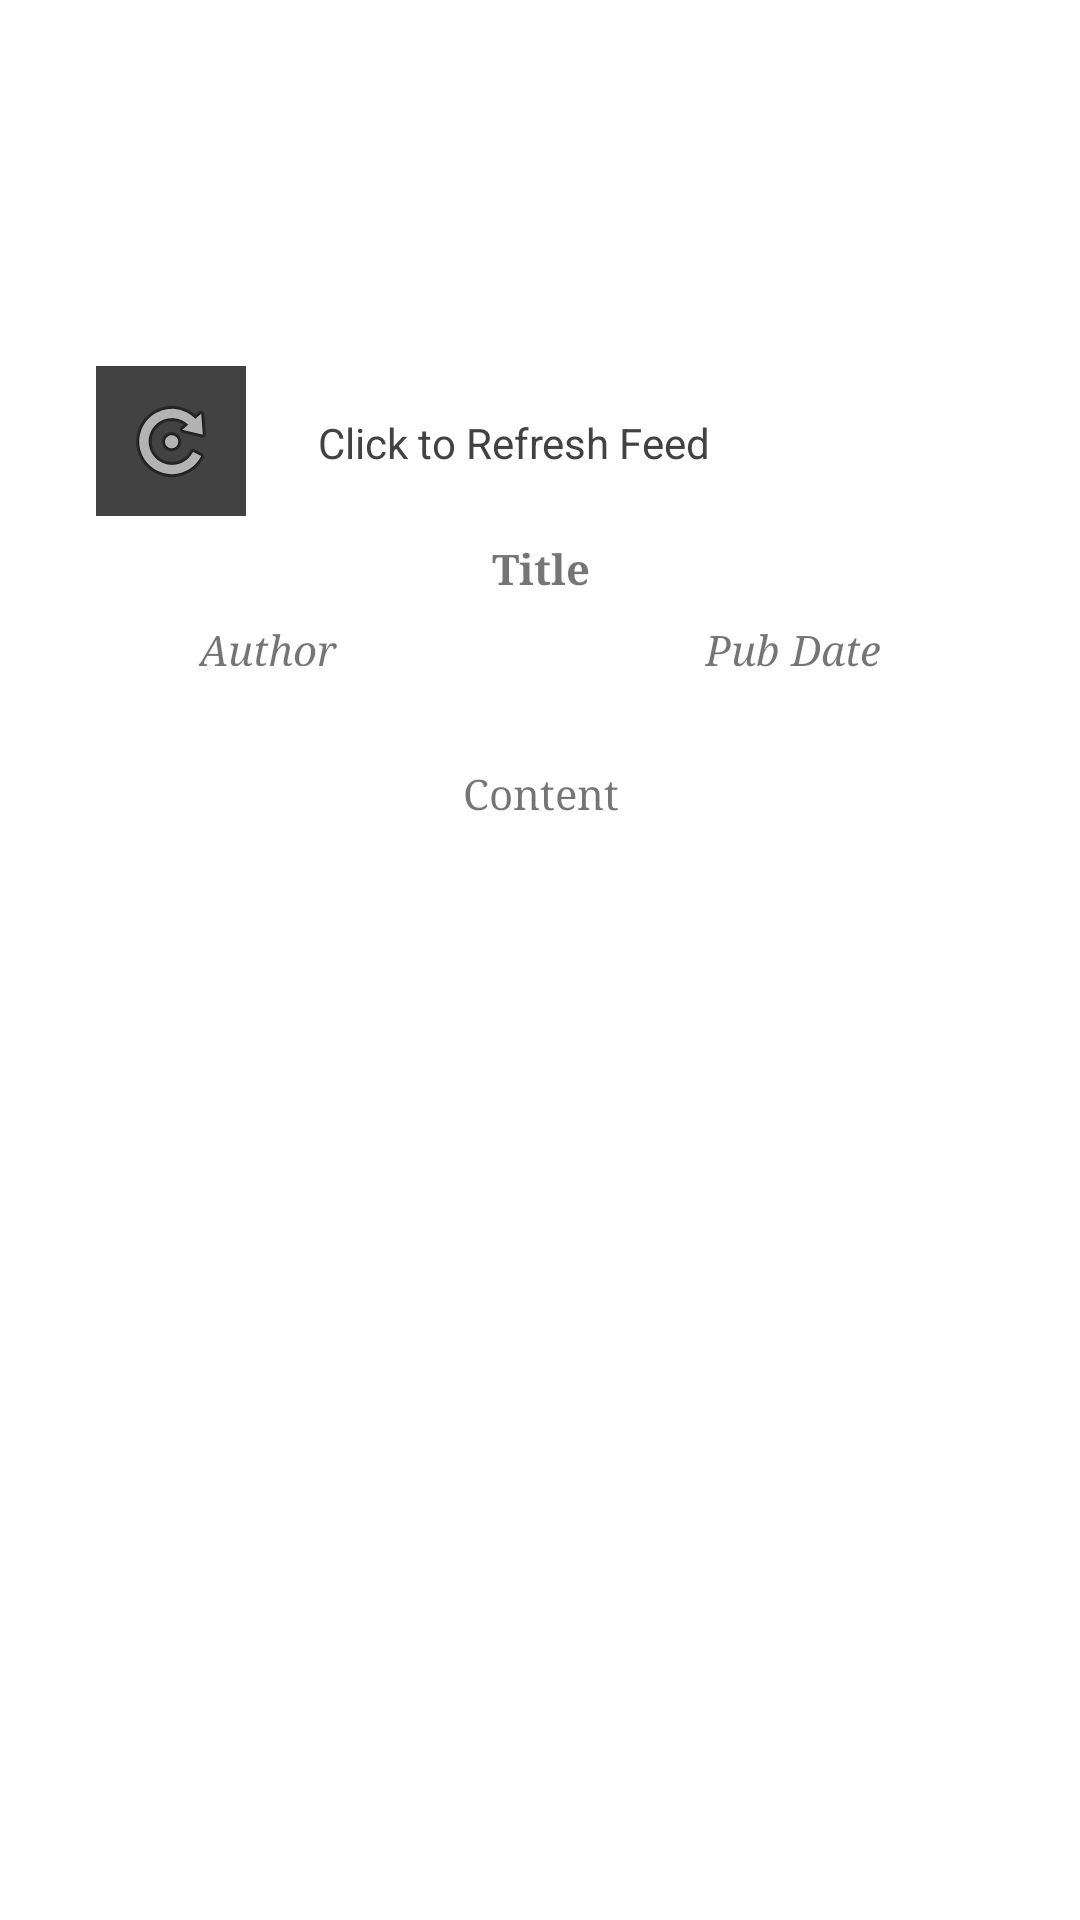

Icon bounding boxes for this 1080 × 1920 phone screenshot, format box=[x1, y1, x2, y2]:
Android-supplied refresh picture: box=[96, 366, 246, 516]
